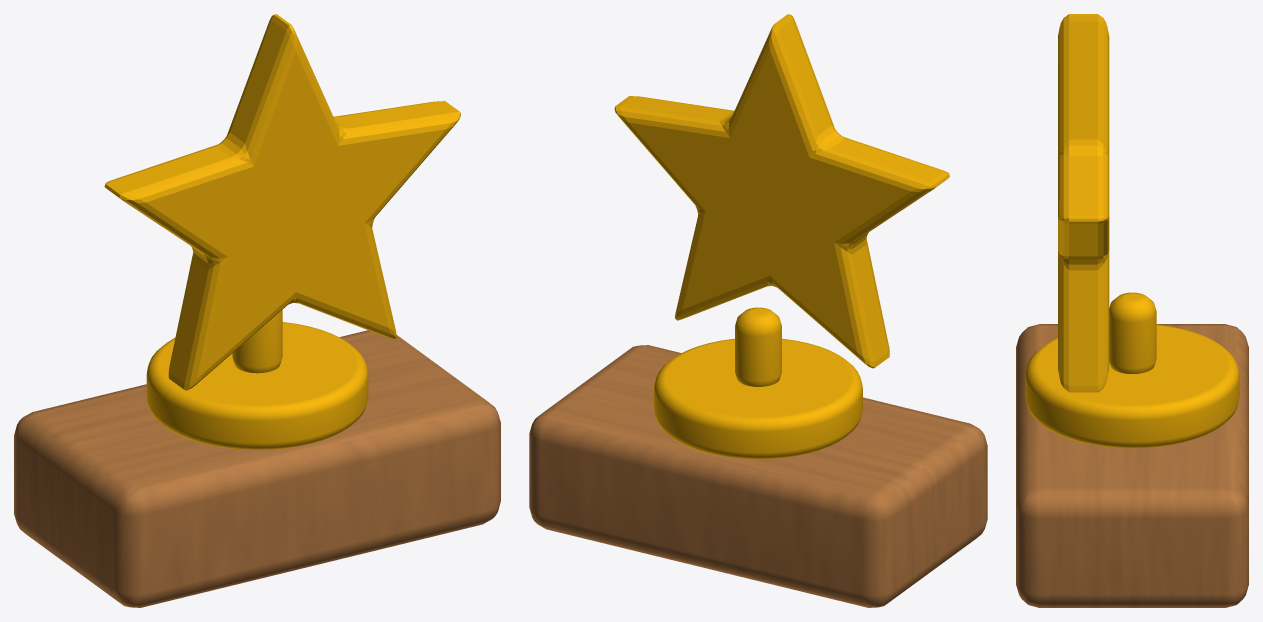
File: display-first-task.glb
The picture shows the model from 3 angles, left to right: view 1: azimuth 30°, elevation 25°; view 2: azimuth 150°, elevation 25°; view 3: azimuth 270°, elevation 25°; orthographic projection. The views are drawn at different scales.
Visible parts, largest first — view 1: Wooden award plinth.003, Star, Star foot, Star support; view 2: Wooden award plinth.003, Star, Star foot, Star support; view 3: Wooden award plinth.003, Star, Star foot, Star support.
Boxes of the visible parts, left/top/right/bottom form: Wooden award plinth.003: left=14, top=330, right=500, bottom=607; Star: left=104, top=14, right=460, bottom=390; Star foot: left=146, top=322, right=368, bottom=449; Star support: left=232, top=310, right=282, bottom=373; Wooden award plinth.003: left=529, top=345, right=987, bottom=607; Star: left=614, top=14, right=949, bottom=368; Star foot: left=654, top=338, right=862, bottom=459; Star support: left=735, top=307, right=781, bottom=386; Wooden award plinth.003: left=1016, top=324, right=1248, bottom=607; Star: left=1058, top=14, right=1109, bottom=392; Star foot: left=1025, top=324, right=1239, bottom=448; Star support: left=1109, top=292, right=1156, bottom=373.
Size of the model in its own units: 0.46 by 0.6046 by 0.25.
2 materials, 1 textured.
